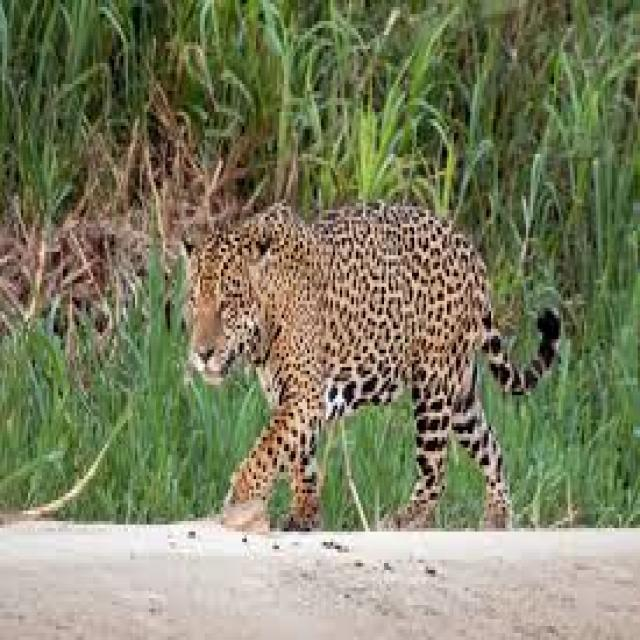Jaguar: (165, 189, 566, 542)
